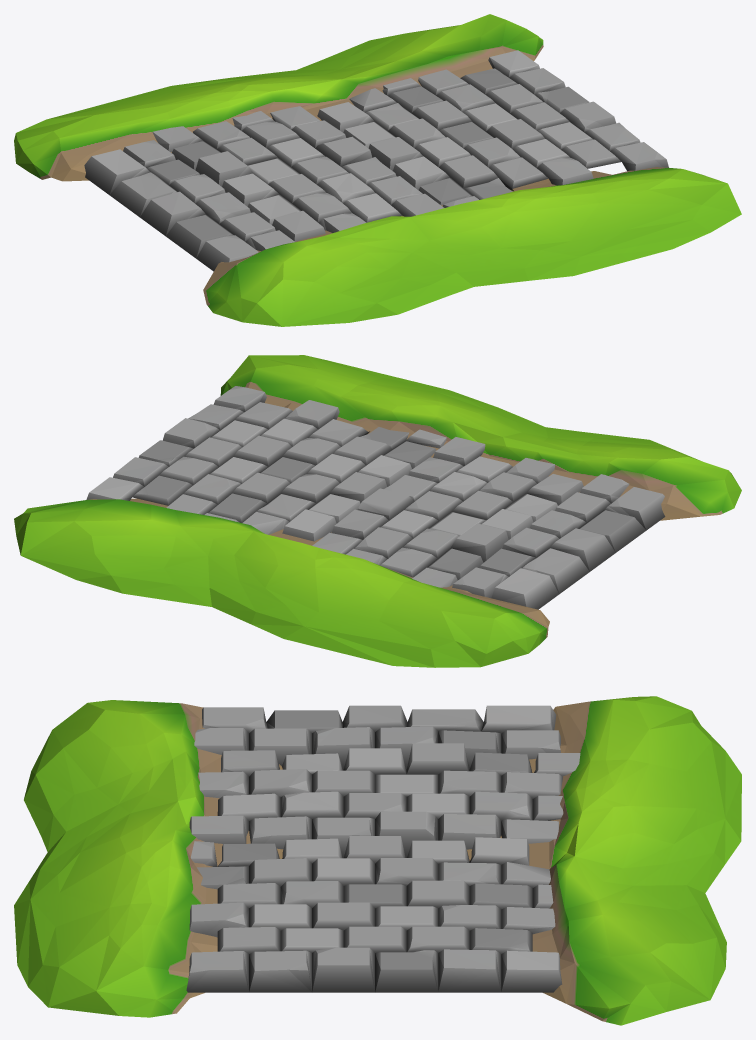
Rendered from cobbledstreet1.glb.
3 renders of one model, top to bottom at view 1: azimuth 30°, elevation 25°; view 2: azimuth 150°, elevation 25°; view 3: azimuth 270°, elevation 25°, orthographic. The views are drawn at different scales.
Parts seen in each view (by area): view 1: CobbledStreet1_mesh1; view 2: CobbledStreet1_mesh1; view 3: CobbledStreet1_mesh1.
Boxes of the visible parts, x1,y1,x2,y2 form: CobbledStreet1_mesh1: [14, 14, 741, 326]; CobbledStreet1_mesh1: [14, 355, 741, 667]; CobbledStreet1_mesh1: [14, 696, 741, 1025].
Size of the model in its own units: 10.07 by 0.7026 by 9.67.
Materials: 1 (1 with a texture image).
